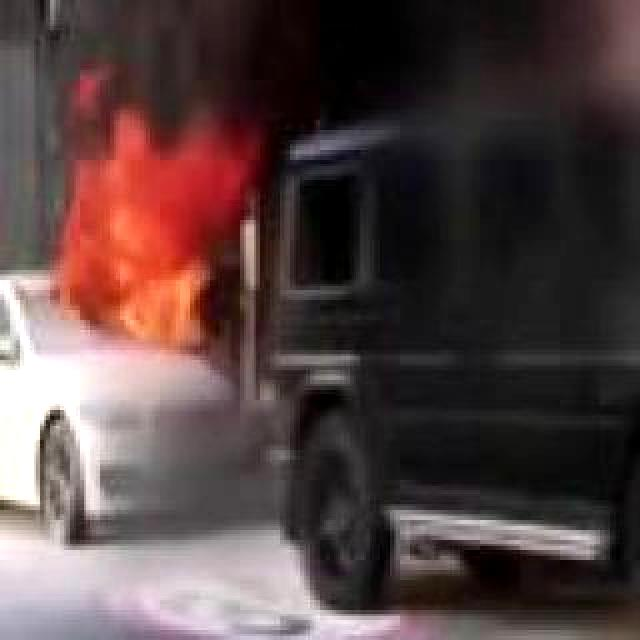fire: (66, 156, 218, 344)
